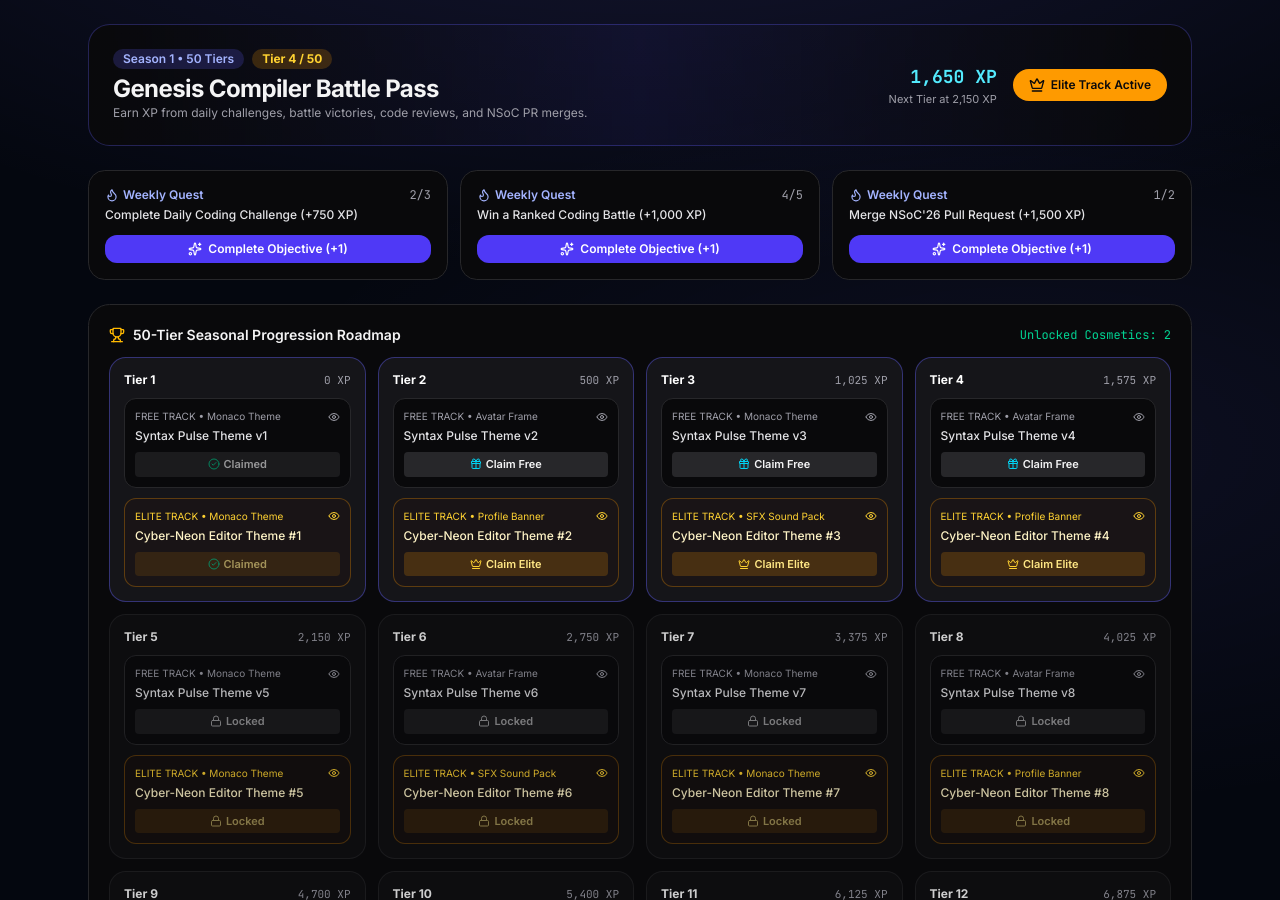
BattlePassPage (50-Tier Seasonal Battle Pass Roadmap) › completes weekly quests to auto-level tiers and claims unlocked rewards into inventory
Expected: the text with test id "bp-current-tier" reads "Tier 4 / 50", [252,49,332,69]
Click the 1st button "Complete Objective (+1)".
click(268, 249)  # box [105,235,431,263]
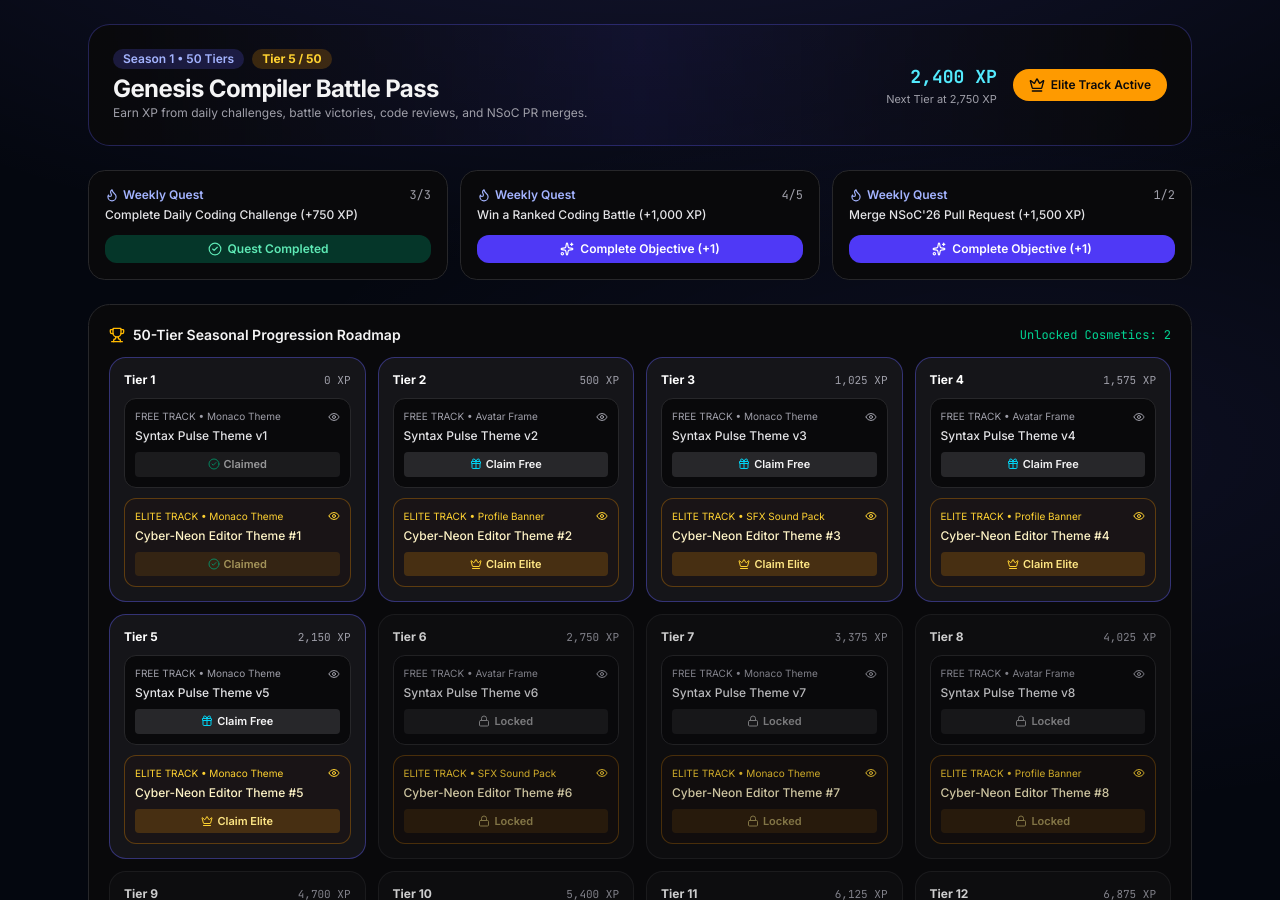
Expected: the text with test id "bp-current-tier" reads "Tier 5 / 50", [252,49,332,69]
Click the button "Claim Free" below "Syntax Pulse Theme v2".
click(506, 464)  # box [404,452,608,476]
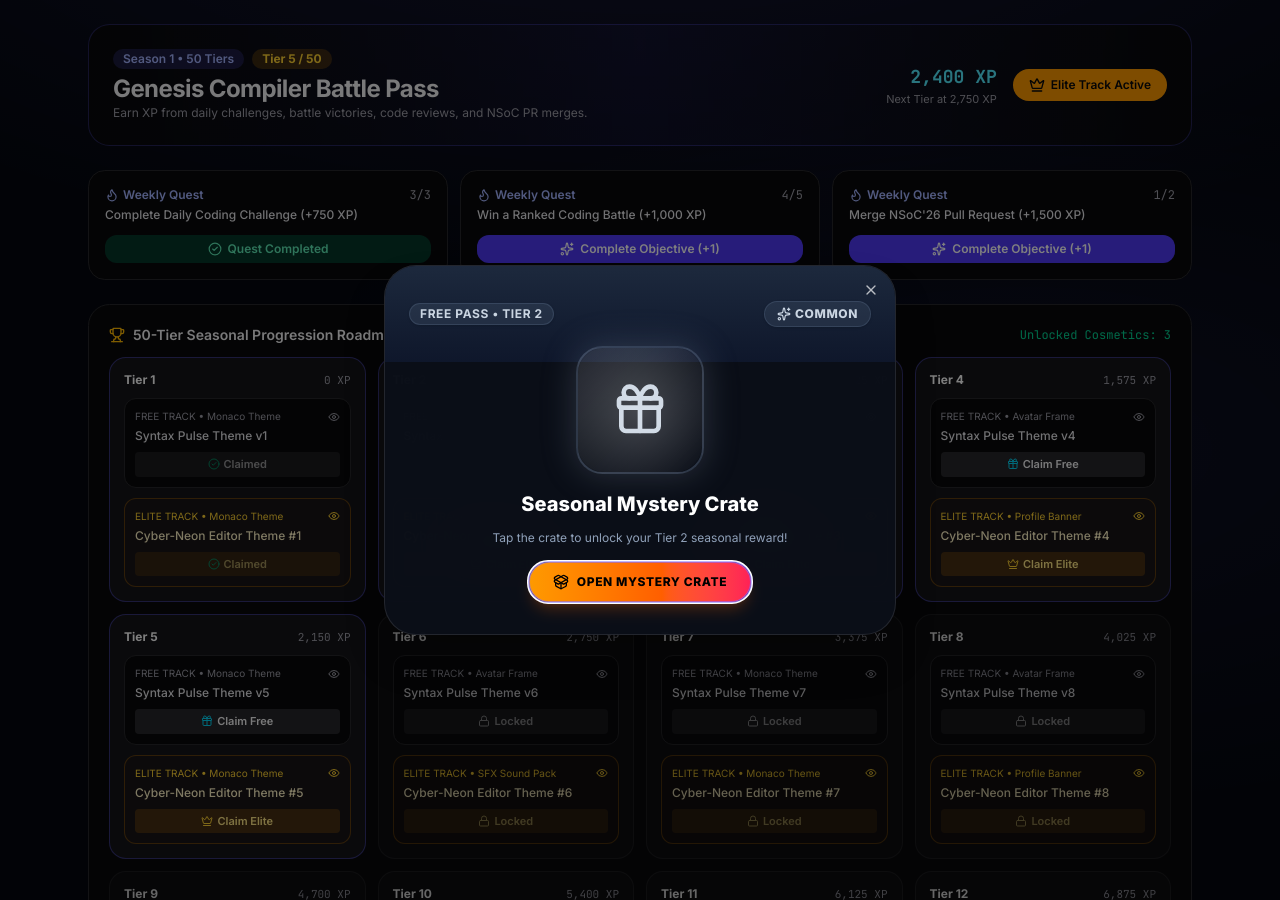
Expected: the text with test id "bp-inventory-count" reads "Unlocked Cosmetics: 3", [1020,327,1171,343]
